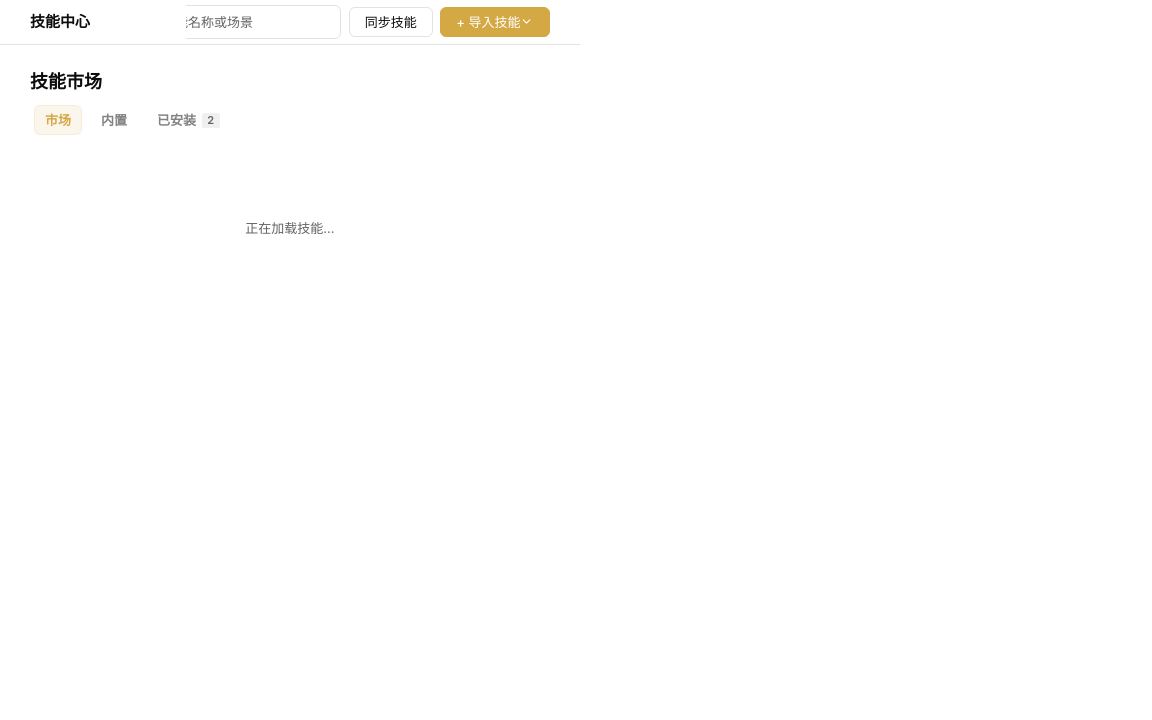
it: SkillCenterPage › upload 抛出 parseFailed 时校验对话框透传 detail
Press the mouse on the button "+ 导入技能": (495, 22) [440,7,550,37]
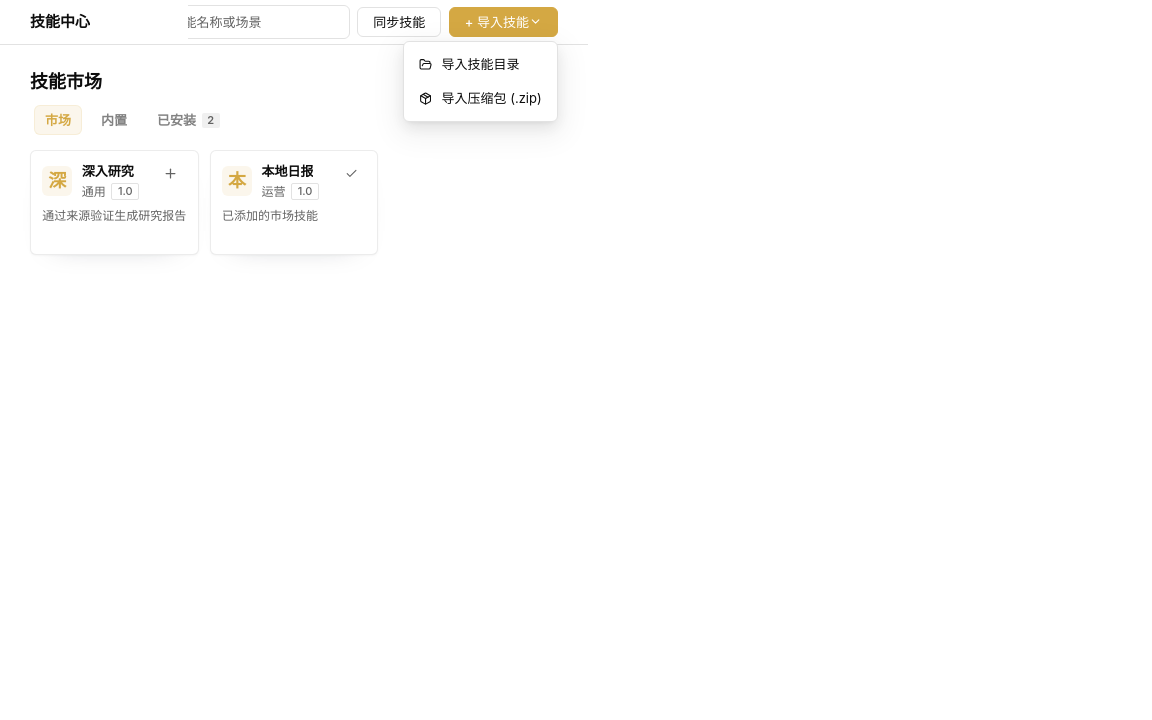
Click the menu item "导入技能目录": (469, 64) [419,56,520,72]
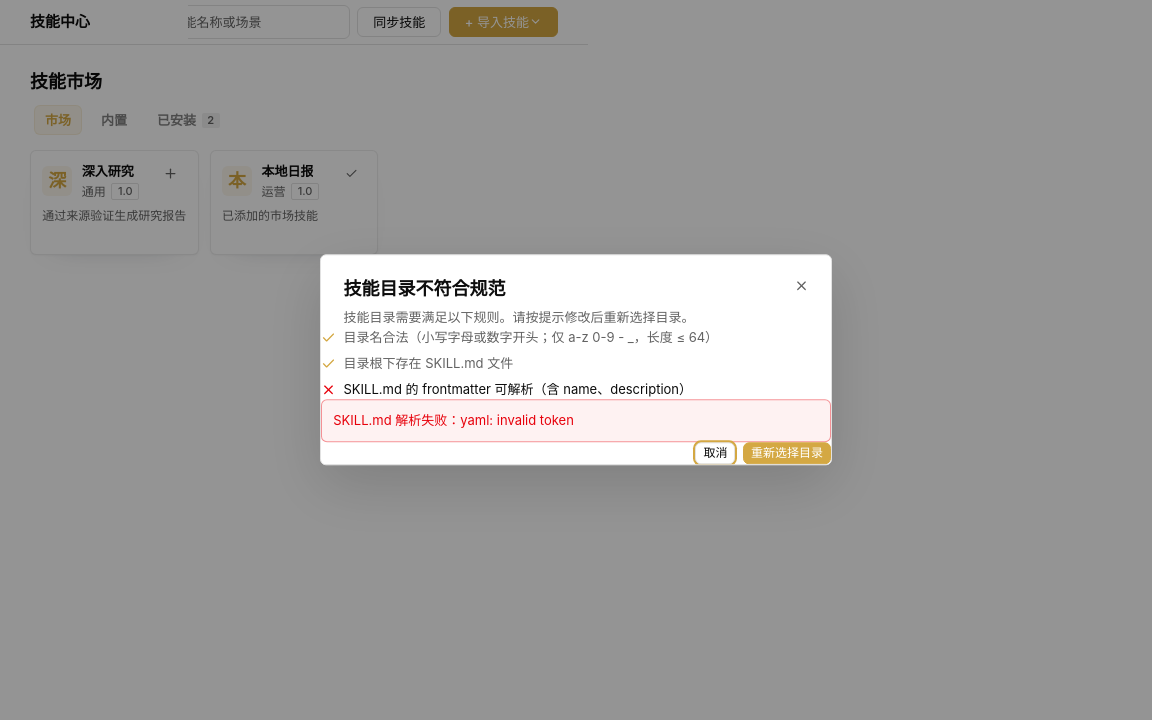
Expected: the heading "技能目录不符合规范" is shown, [344,278,506,299]
Expected: the text "SKILL.md 解析失败：yaml: invalid token" is shown, [321,399,831,442]
